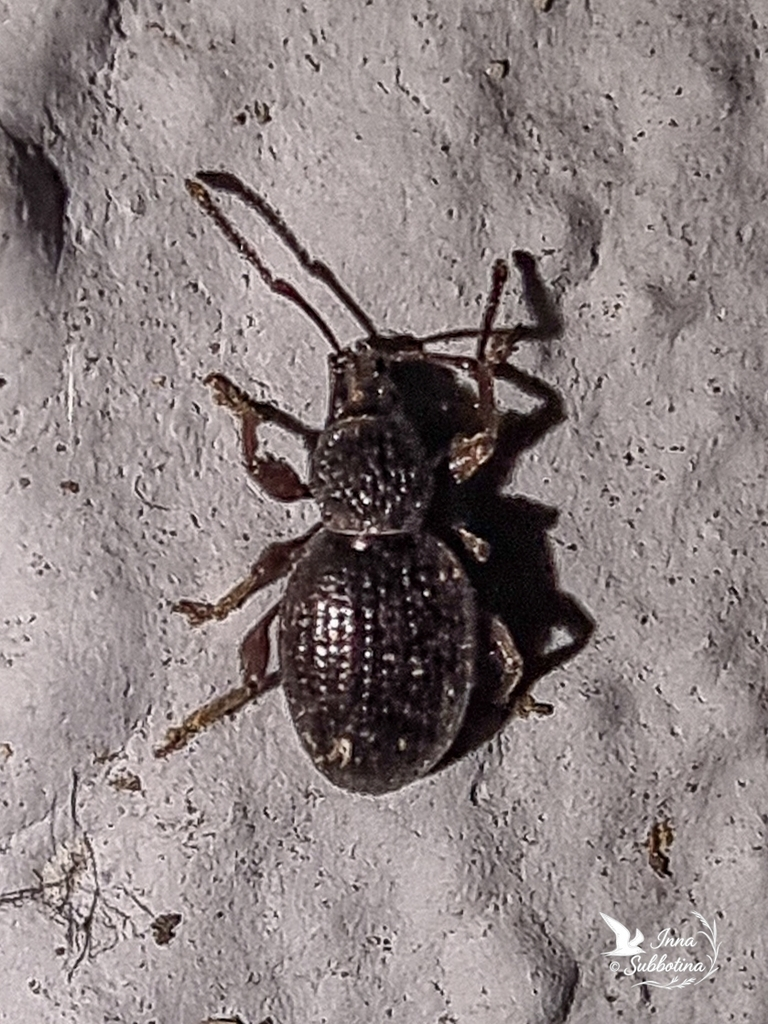weevils: (60, 74, 705, 804)
